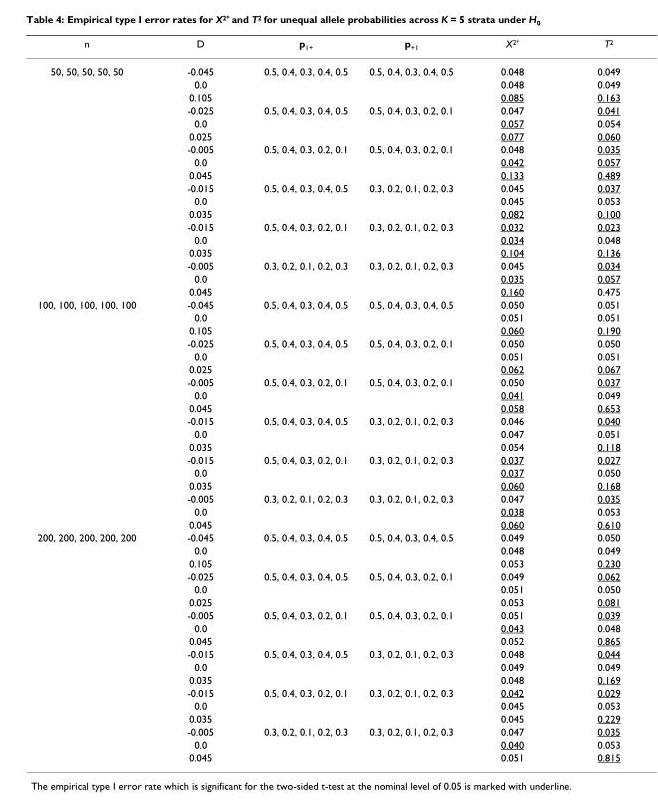table: (36, 36, 619, 762)
table column: (36, 36, 160, 762), (237, 36, 357, 762), (357, 36, 476, 762), (476, 36, 559, 762), (160, 36, 237, 762), (559, 36, 619, 762)
table column header: (36, 36, 619, 58)
table row: (36, 36, 619, 58), (36, 58, 619, 77), (36, 77, 619, 90), (36, 90, 619, 103), (36, 103, 619, 116), (36, 116, 619, 129), (36, 129, 619, 142), (36, 142, 619, 155), (36, 155, 619, 168), (36, 168, 619, 181), (36, 181, 619, 194), (36, 194, 619, 207), (36, 219, 619, 232), (36, 232, 619, 245), (36, 245, 619, 258), (36, 258, 619, 271), (36, 271, 619, 284), (36, 284, 619, 297), (36, 297, 619, 310), (36, 310, 619, 323), (36, 323, 619, 336), (36, 336, 619, 349), (36, 349, 619, 362), (36, 362, 619, 375), (36, 375, 619, 388), (36, 388, 619, 401), (36, 401, 619, 414), (36, 414, 619, 427), (36, 439, 619, 452), (36, 452, 619, 465), (36, 465, 619, 478), (36, 478, 619, 491), (36, 491, 619, 504), (36, 504, 619, 517), (36, 517, 619, 530), (36, 530, 619, 543), (36, 543, 619, 556), (36, 556, 619, 569), (36, 569, 619, 582), (36, 582, 619, 595), (36, 595, 619, 608), (36, 608, 619, 621), (36, 621, 619, 634), (36, 634, 619, 647), (36, 659, 619, 672), (36, 672, 619, 685), (36, 685, 619, 698), (36, 698, 619, 711), (36, 711, 619, 724), (36, 724, 619, 737), (36, 737, 619, 750), (36, 207, 619, 219), (36, 427, 619, 439), (36, 647, 619, 659), (36, 750, 619, 762)
table spanning cell: (36, 58, 160, 297), (36, 297, 160, 530), (36, 530, 160, 762)
